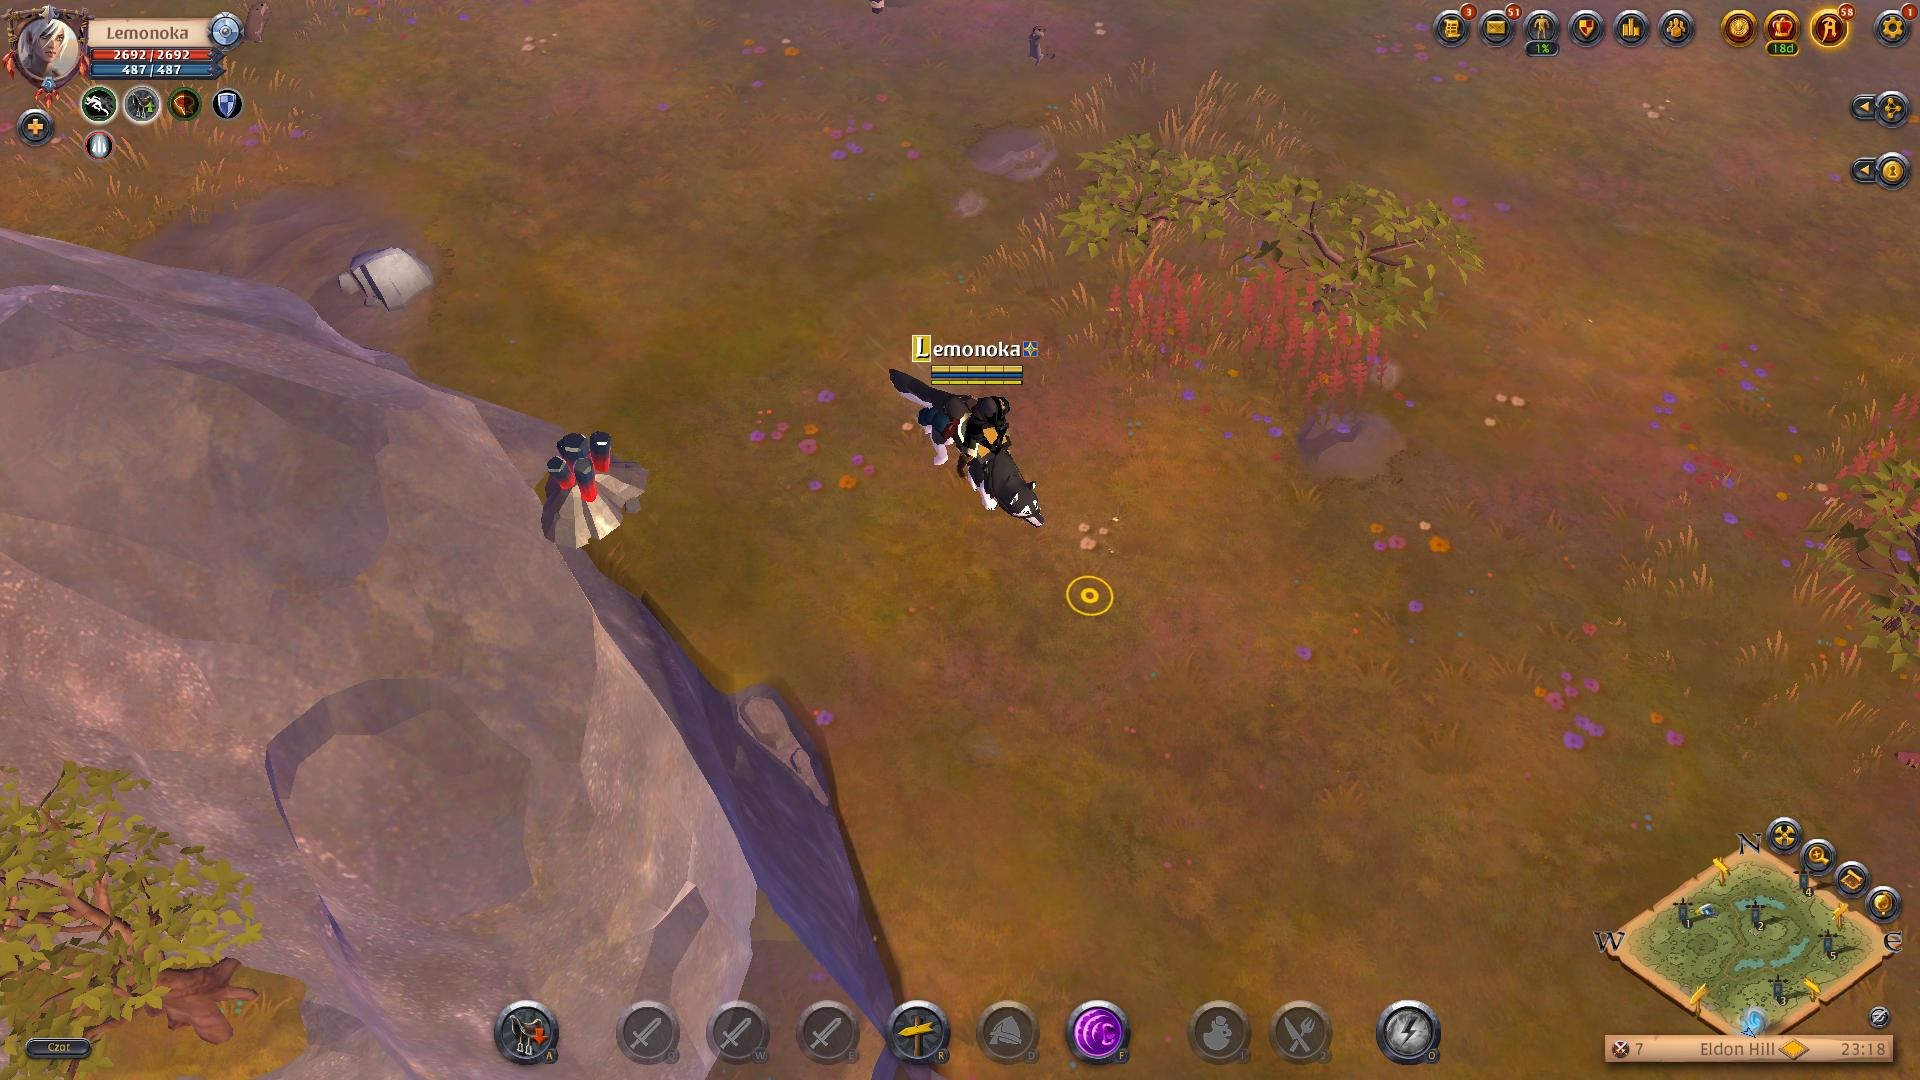ore tier 5: (533, 423, 651, 547)
rock tier 1: (332, 244, 434, 315)
